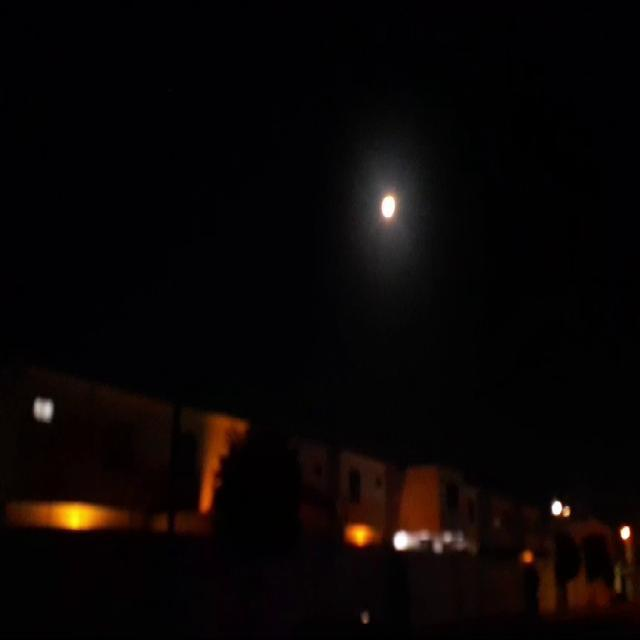moon: (362, 190, 385, 224)
